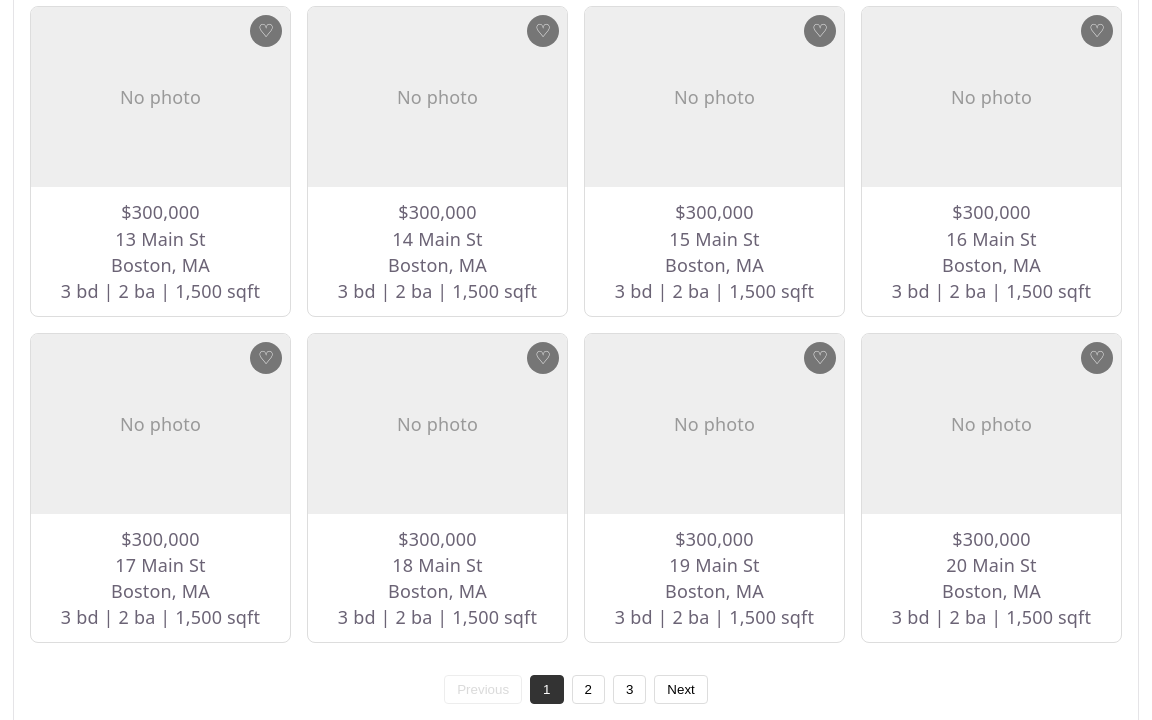
Test case: ListingsPage pagination › resets to page 1 when new filters are applied
This screenshot has width=1152, height=720.
(page scrolled)
Step 1. Click the button "Next" → (681, 690), box [654,675,708,704]
(page scrolled)
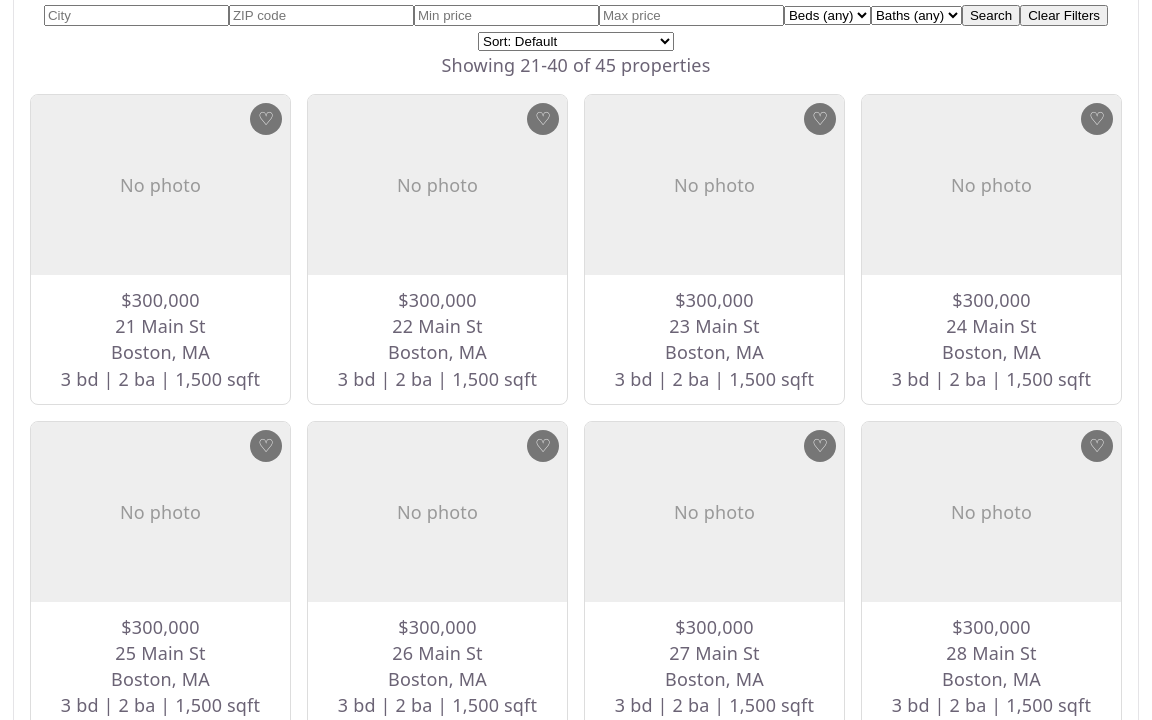
Check: the text "Showing 21-40 of 45 properties" is shown, box [442,53,710,77]
Step 2. Type "Cambridge" into the field with placeholder "City" → (136, 16), box [44,5,229,26]
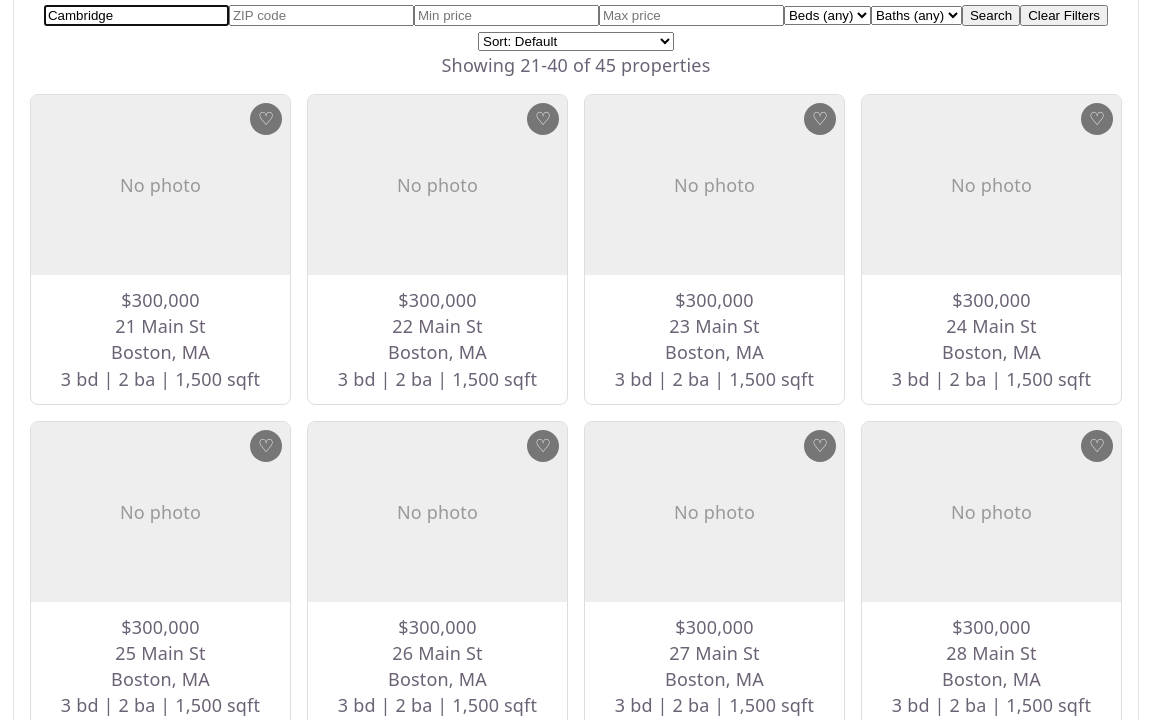
Step 3. Click the button "Search" → (991, 16), box [962,5,1020,26]
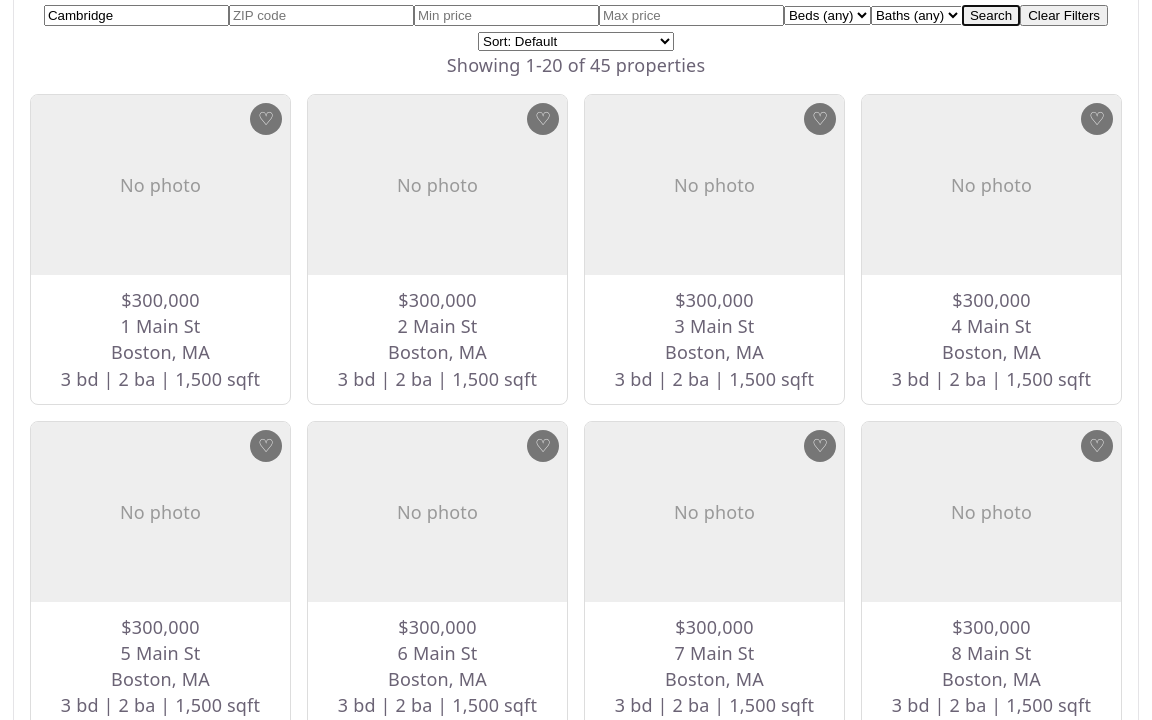
Check: the text "Showing 1-20 of 45 properties" is shown, box [447,53,705,77]
